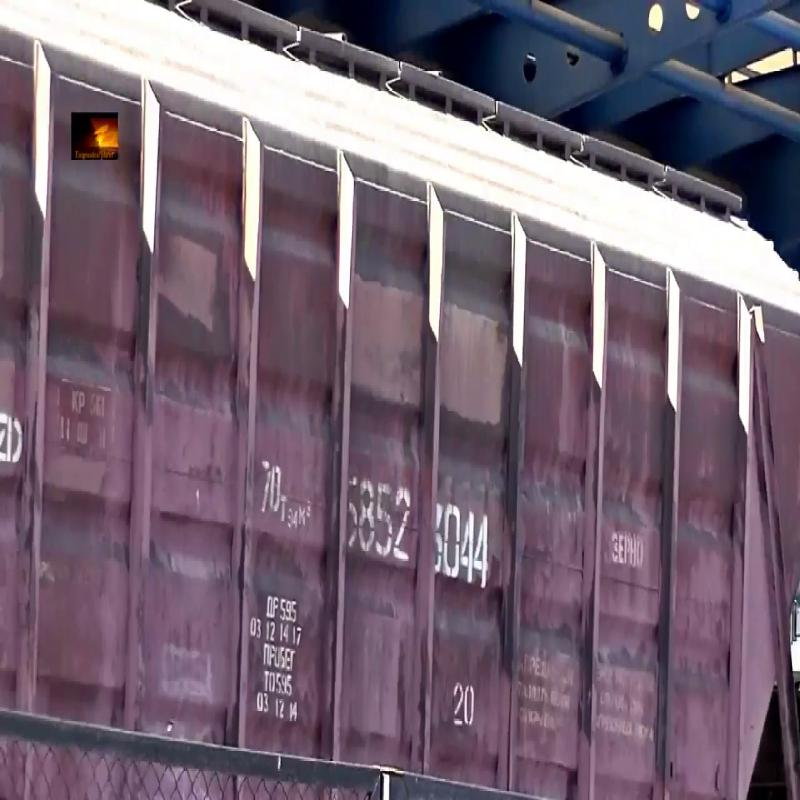train: (9, 7, 800, 783)
